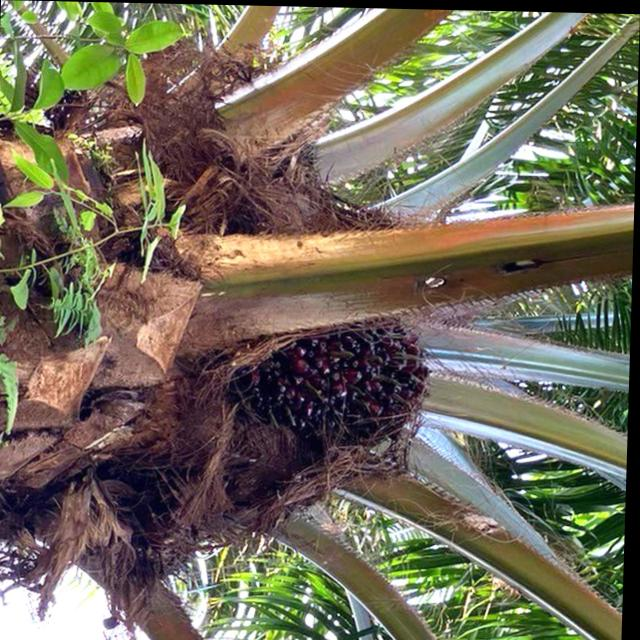almost: (209, 297, 447, 477)
